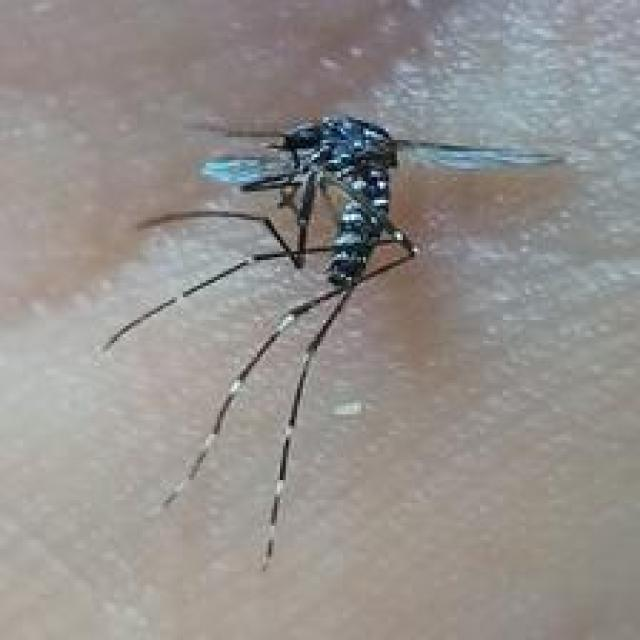Aedes albopictus: (100, 110, 566, 570)
